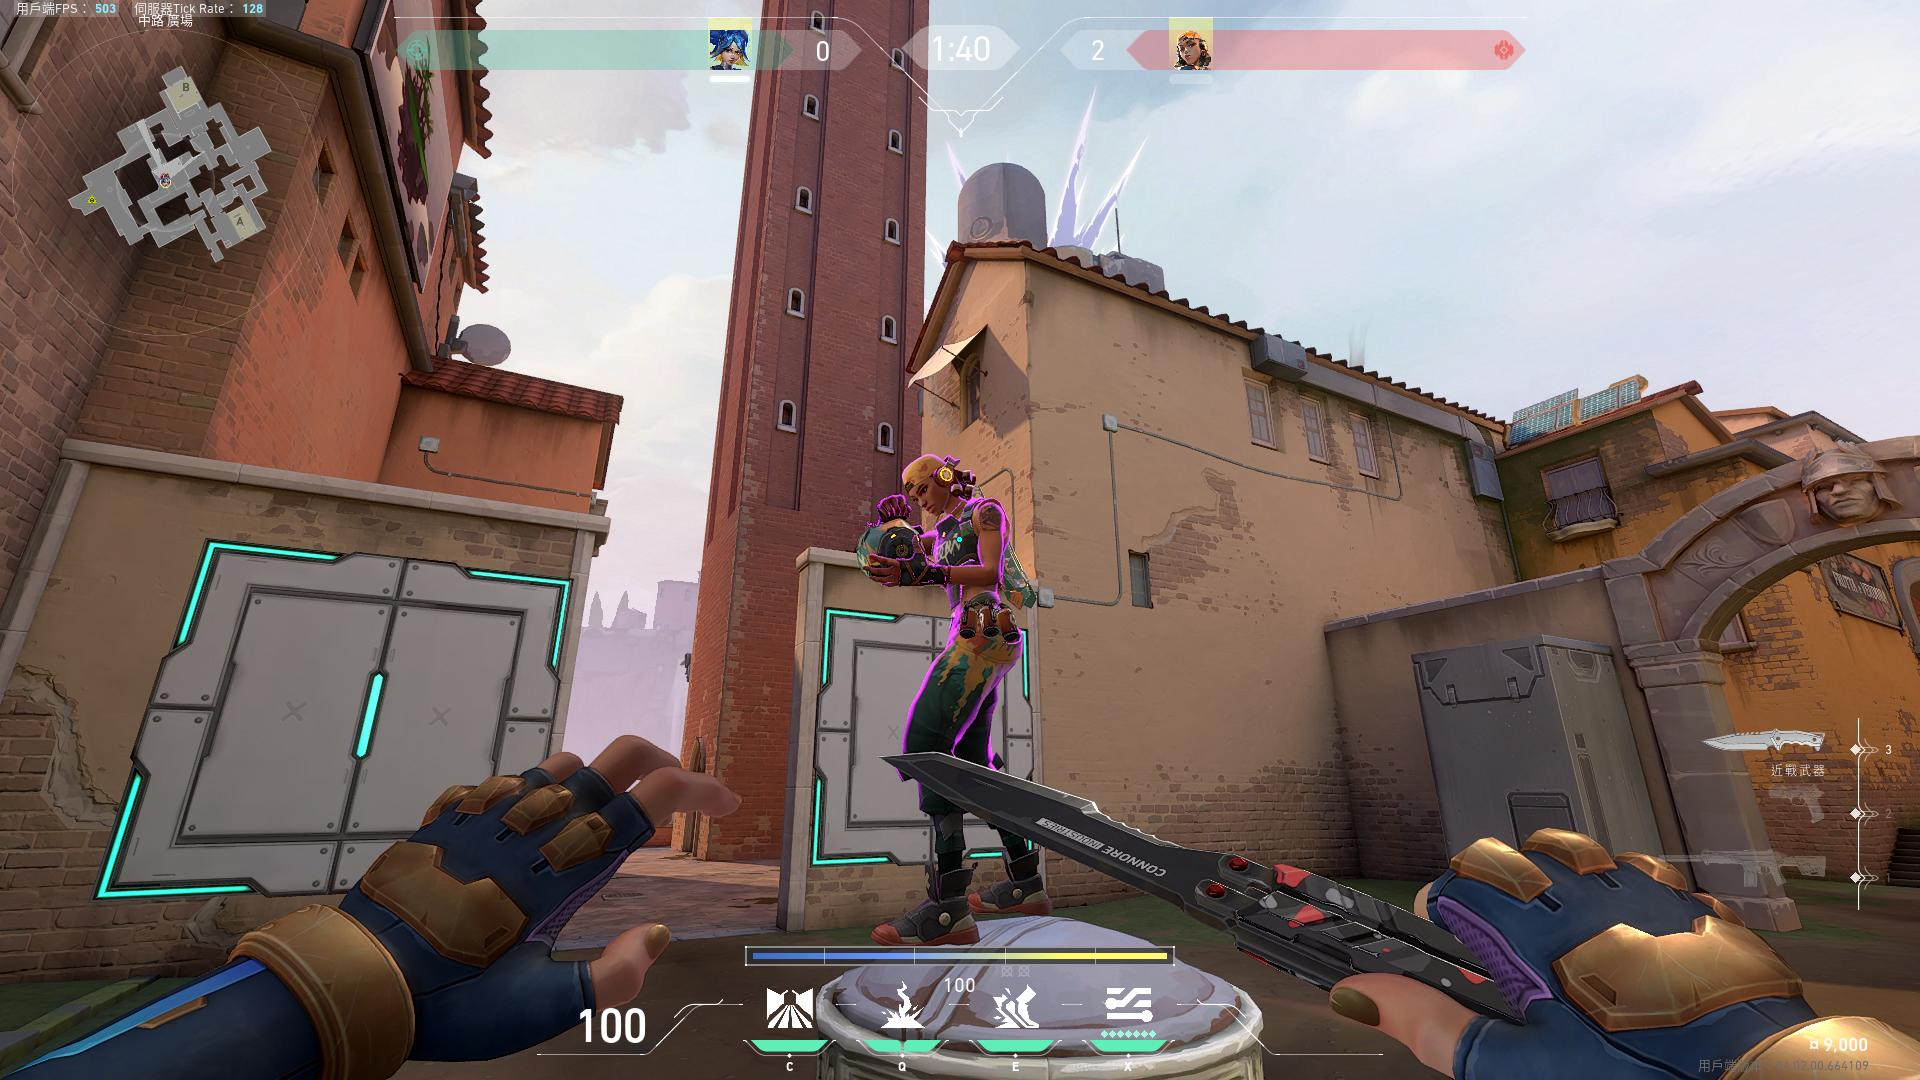enemyBody: (947, 522, 1010, 618)
enemyHead: (909, 465, 961, 512)
